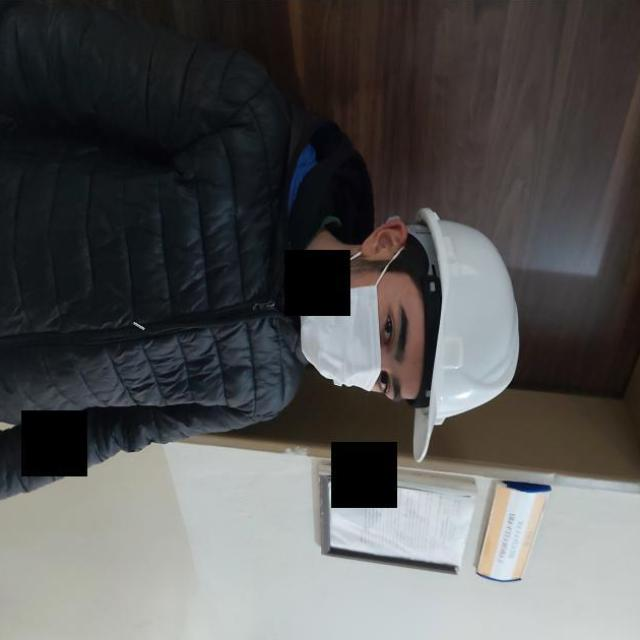helmet: (404, 206, 521, 462)
